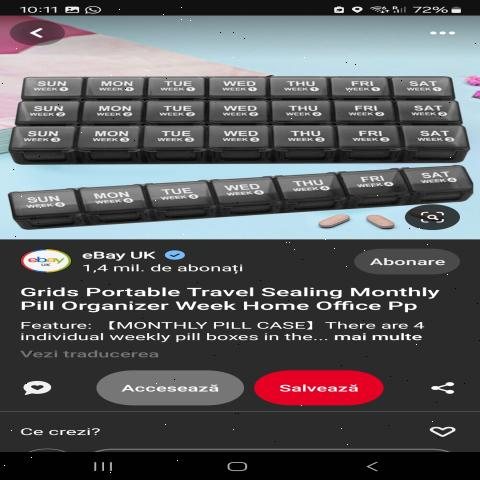PillBox: (9, 61, 480, 164)
